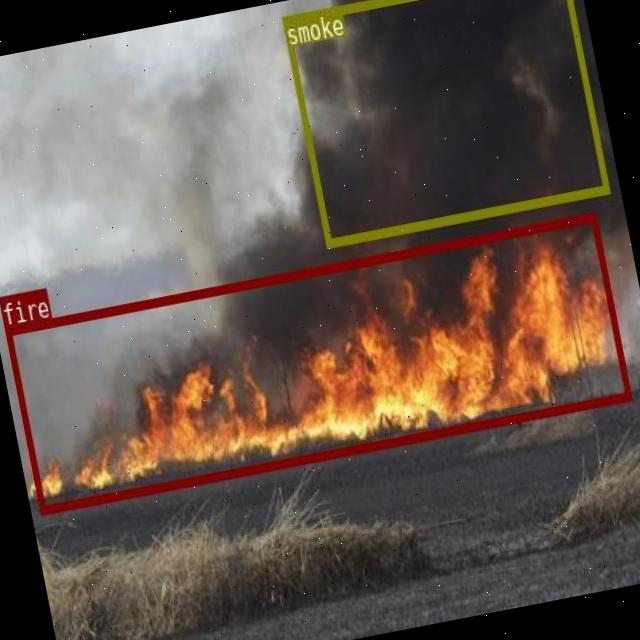fire: (4, 212, 630, 514)
smoke: (281, 0, 609, 247)
